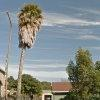Tree: (62, 38, 100, 94)
